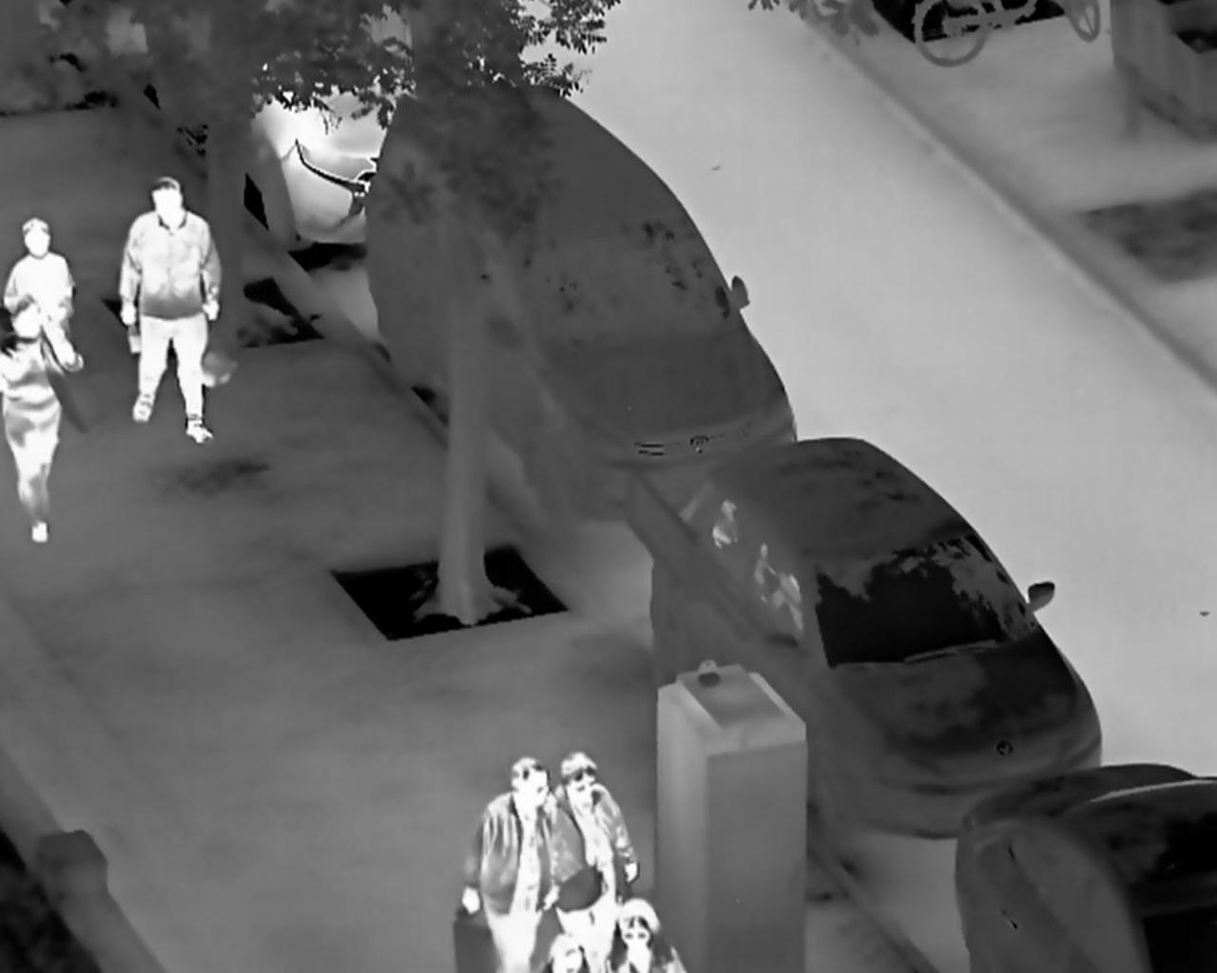person: (116, 177, 222, 445), (457, 759, 561, 973), (543, 749, 645, 921)
